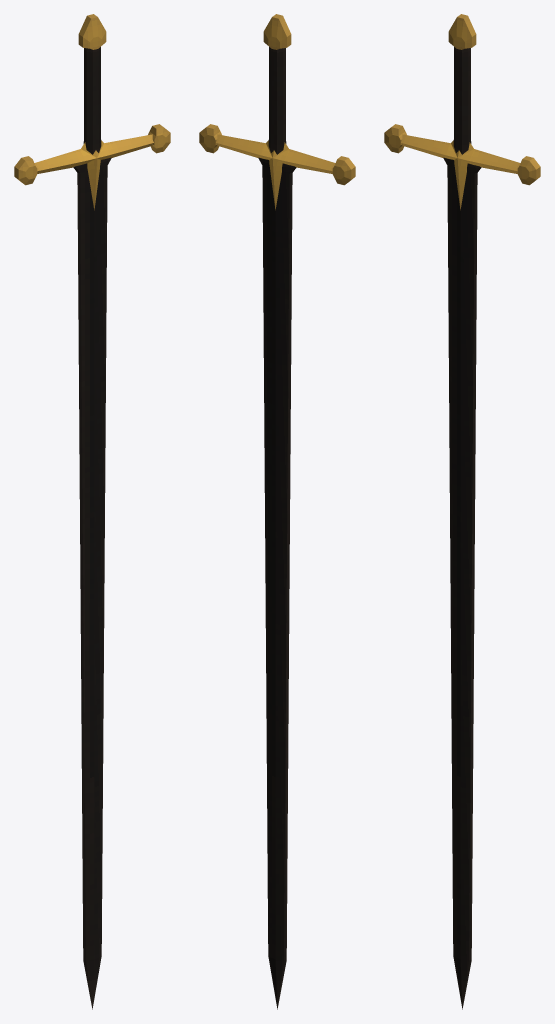
File: friedesword.gltf
3 views of the same model, side by side, from view 1: azimuth 30°, elevation 25°; view 2: azimuth 150°, elevation 25°; view 3: azimuth 330°, elevation 25° (orthographic).
Parts seen in each view (by area): view 1: blade, guard, pommel (×3), handle; view 2: blade, guard, pommel (×3), handle; view 3: blade, guard, pommel (×3), handle.
Part boxes in pixels (x1,y1,x2,y2): blade: (73, 157, 111, 1009); guard: (34, 134, 153, 210); pommel (×3): (14, 14, 170, 185); handle: (83, 47, 101, 154); blade: (258, 157, 296, 1009); guard: (216, 134, 335, 210); pommel (×3): (199, 14, 355, 185); handle: (268, 47, 286, 154); blade: (443, 157, 481, 1009); guard: (401, 134, 520, 210); pommel (×3): (384, 14, 540, 185); handle: (453, 47, 471, 154).
Bounding box in the file's own units: 0.975 × 6.09 × 0.1061.
Materials: 1 (1 with a texture image).
